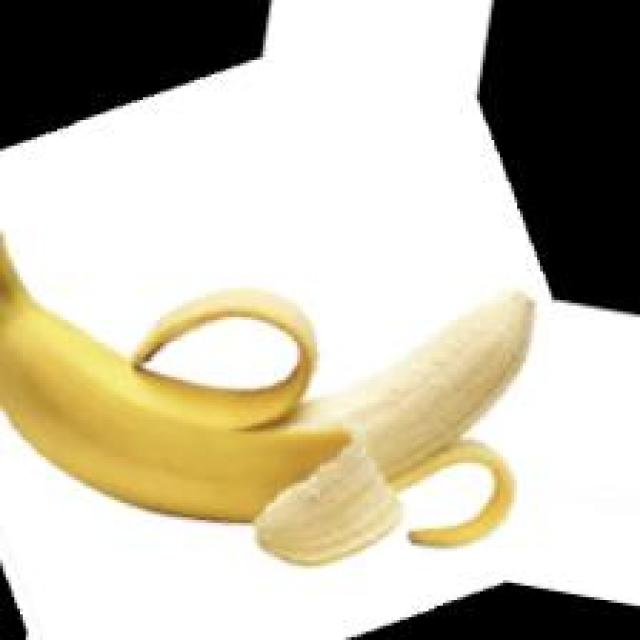banana: (6, 215, 556, 610)
